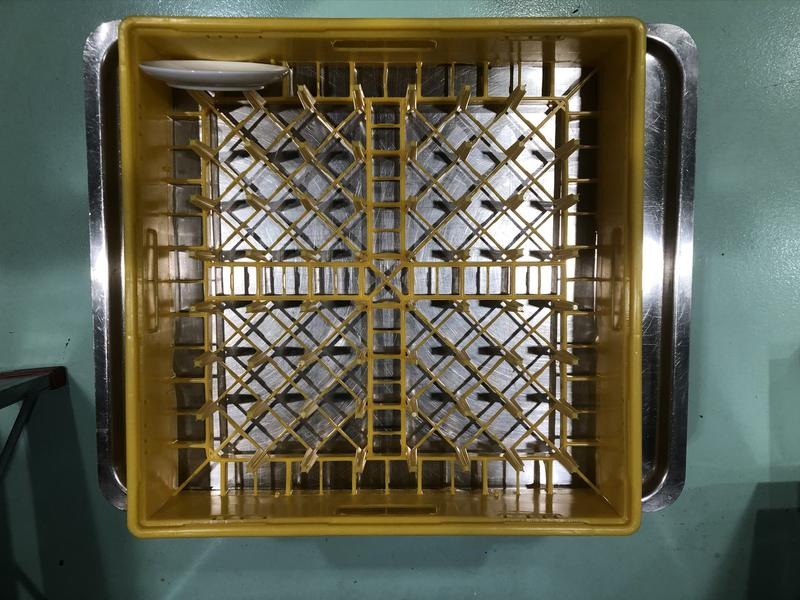Dish: (137, 58, 290, 92)
